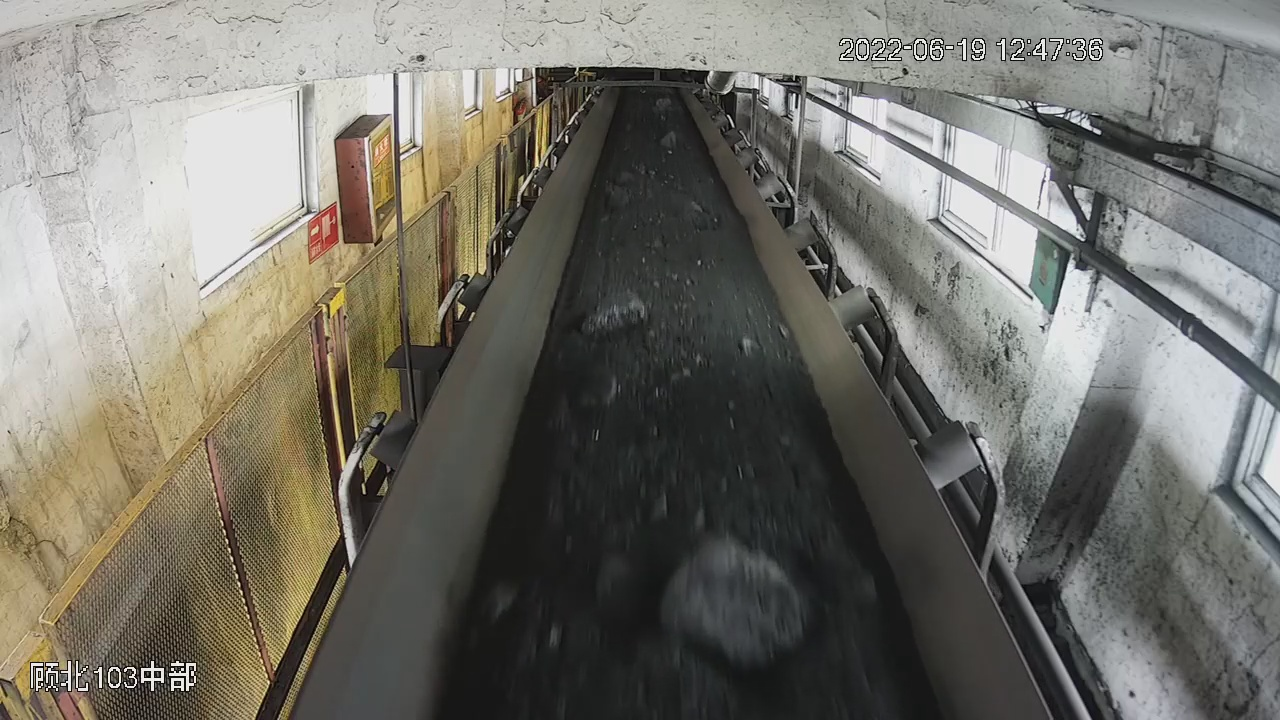gangue: (661, 536, 811, 664), (582, 283, 646, 341), (599, 558, 637, 609), (483, 575, 513, 612), (654, 99, 671, 117), (661, 131, 675, 151), (741, 337, 757, 354)
